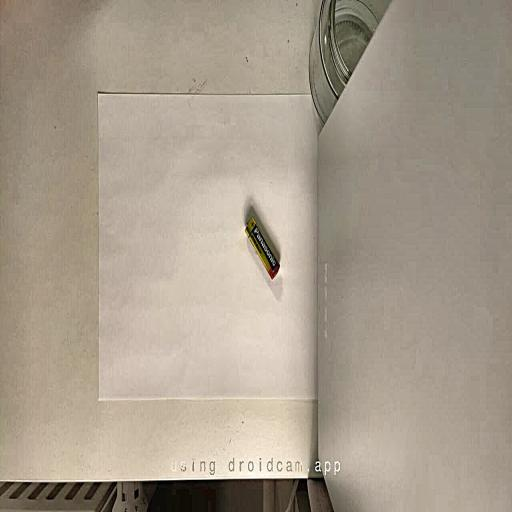PanasonicAA: (245, 218, 279, 278)
